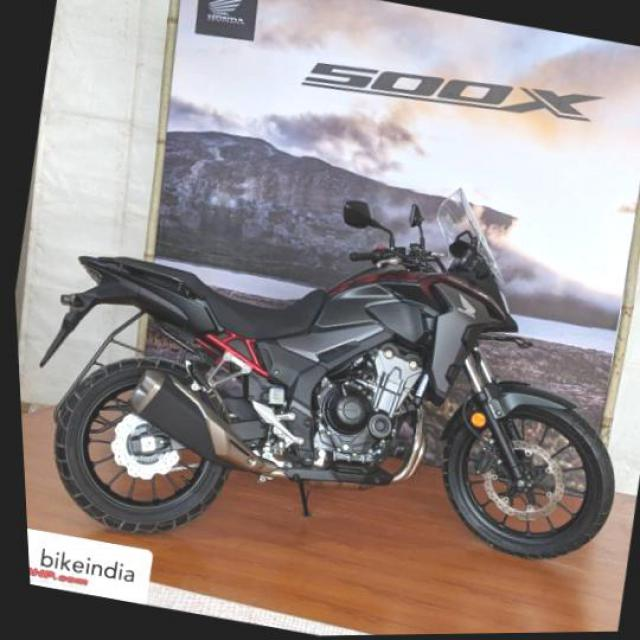CB500X: (16, 114, 638, 629)
